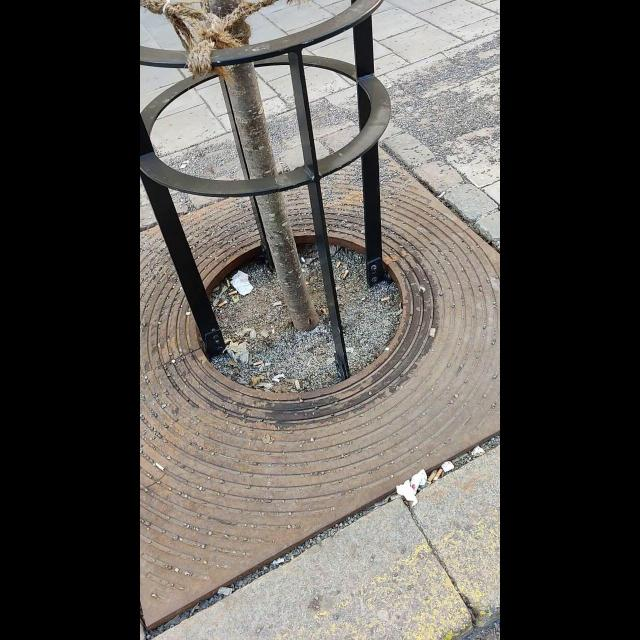cigarette: (218, 585, 234, 595), (156, 461, 164, 471), (436, 468, 442, 481), (228, 290, 238, 297), (294, 380, 300, 391), (225, 278, 232, 287), (430, 328, 436, 338), (260, 330, 268, 337), (253, 360, 262, 366), (270, 302, 282, 306), (218, 302, 226, 308), (429, 474, 434, 483), (344, 269, 348, 279), (382, 297, 389, 302), (336, 260, 340, 268), (440, 191, 444, 197)
